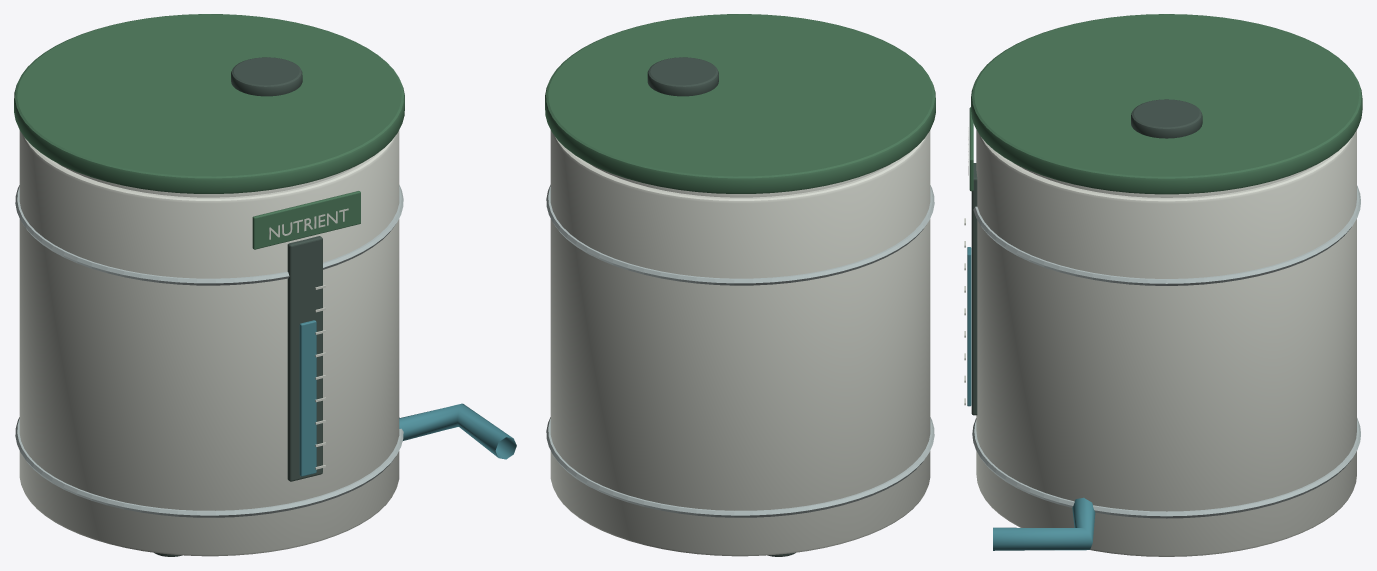
Rendered from tank.glb.
3 renders of one model, left to right at view 1: azimuth 30°, elevation 25°; view 2: azimuth 150°, elevation 25°; view 3: azimuth 270°, elevation 25°, orthographic.
Visible parts, largest first — view 1: Tank main rotational body, Tank removable lid, Level gauge backing, Tank identification plate, Tank moulded reinforcement ring, Tank moulded reinforcement ring.001, Tank outlet, Transparent gauge fill, Tank service cap, Tank raised shoulder; view 2: Tank main rotational body, Tank removable lid, Tank moulded reinforcement ring, Tank moulded reinforcement ring.001, Tank service cap, Tank raised shoulder; view 3: Tank main rotational body, Tank removable lid, Tank moulded reinforcement ring.001, Tank moulded reinforcement ring, Tank outlet, Tank service cap, Level gauge backing, Tank raised shoulder, Transparent gauge fill.
Part boxes in pixels (left/top/right/bottom): Tank main rotational body: left=19, top=130, right=399, bottom=556; Tank removable lid: left=14, top=14, right=404, bottom=193; Level gauge backing: left=287, top=236, right=322, bottom=481; Tank identification plate: left=252, top=191, right=360, bottom=249; Tank moulded reinforcement ring: left=15, top=417, right=403, bottom=517; Tank moulded reinforcement ring.001: left=15, top=185, right=403, bottom=285; Tank outlet: left=399, top=403, right=516, bottom=459; Transparent gauge fill: left=299, top=320, right=316, bottom=476; Tank service cap: left=231, top=57, right=302, bottom=96; Tank raised shoulder: left=57, top=163, right=359, bottom=197; Tank main rotational body: left=550, top=130, right=930, bottom=556; Tank removable lid: left=545, top=14, right=935, bottom=193; Tank moulded reinforcement ring: left=546, top=417, right=934, bottom=517; Tank moulded reinforcement ring.001: left=546, top=185, right=934, bottom=285; Tank service cap: left=647, top=57, right=718, bottom=96; Tank raised shoulder: left=590, top=163, right=892, bottom=197; Tank main rotational body: left=976, top=130, right=1356, bottom=556; Tank removable lid: left=971, top=14, right=1362, bottom=194; Tank moulded reinforcement ring.001: left=973, top=185, right=1360, bottom=285; Tank moulded reinforcement ring: left=972, top=418, right=1360, bottom=518; Tank outlet: left=993, top=497, right=1095, bottom=550; Tank service cap: left=1131, top=99, right=1202, bottom=138; Level gauge backing: left=971, top=163, right=977, bottom=415; Tank raised shoulder: left=1014, top=163, right=1319, bottom=197; Transparent gauge fill: left=967, top=247, right=971, bottom=406.
Bounding box in the file's own units: 1.63 × 1.62 × 1.44.
